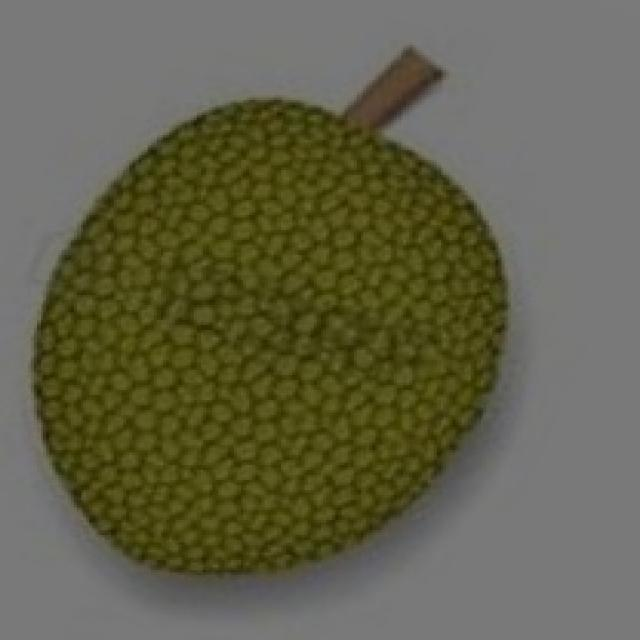Fruit: (6, 72, 428, 478), (145, 58, 548, 322)
